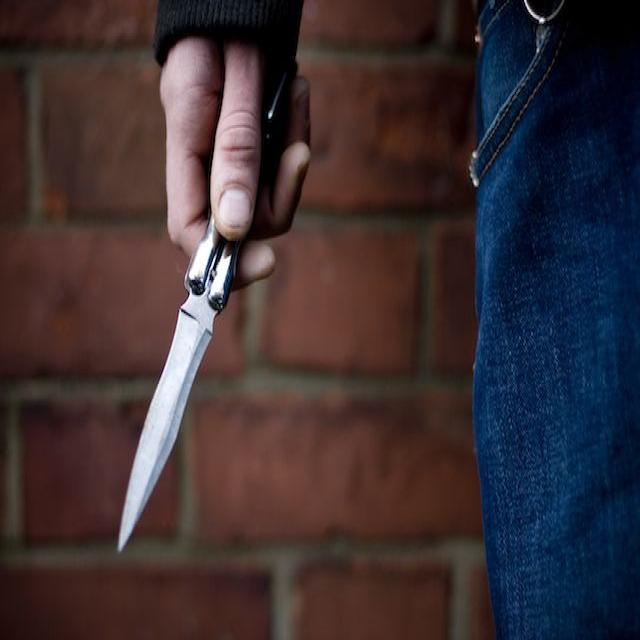knife: (111, 236, 229, 569)
